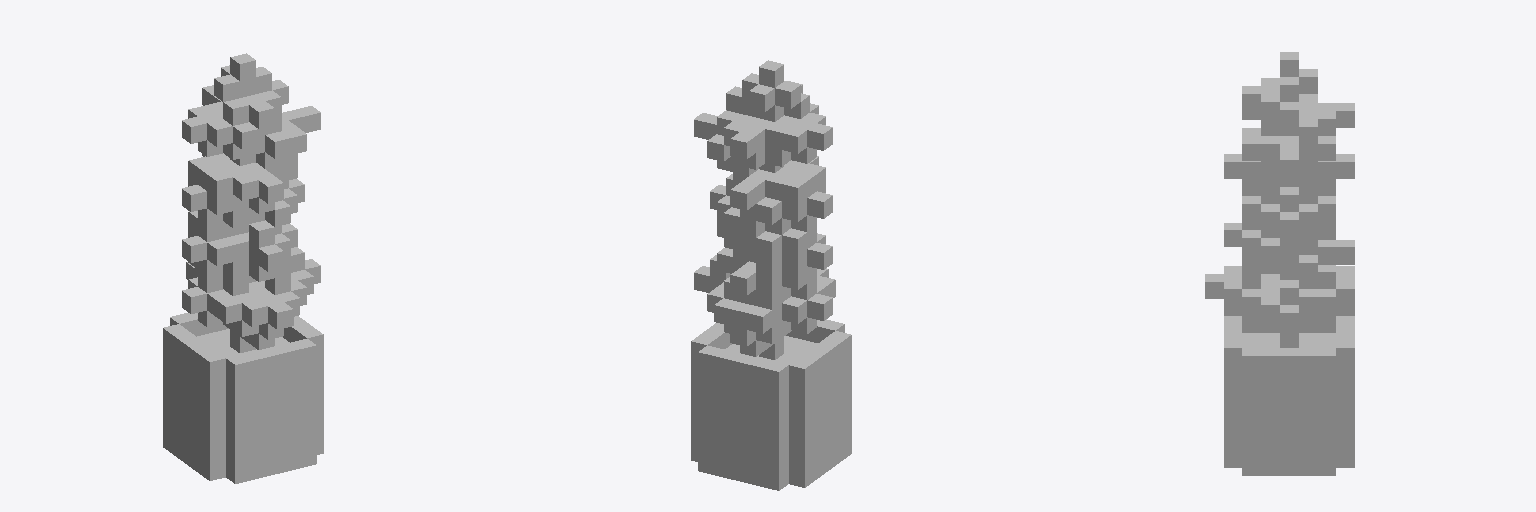
Rendered from 3D Voxel Office Pack-23.obj.
3 renders of one model, left to right at view 1: azimuth 30°, elevation 25°; view 2: azimuth 150°, elevation 25°; view 3: azimuth 270°, elevation 25°, orthographic.
Visible parts, largest first — view 1: object 1; view 2: object 1; view 3: object 1.
Part boxes in pixels (x1,y1,x2,y2): object 1: (163, 53, 323, 483); object 1: (691, 60, 851, 490); object 1: (1205, 52, 1354, 475).
Bounding box in the file's own units: 0.8 × 2.3 × 0.8.